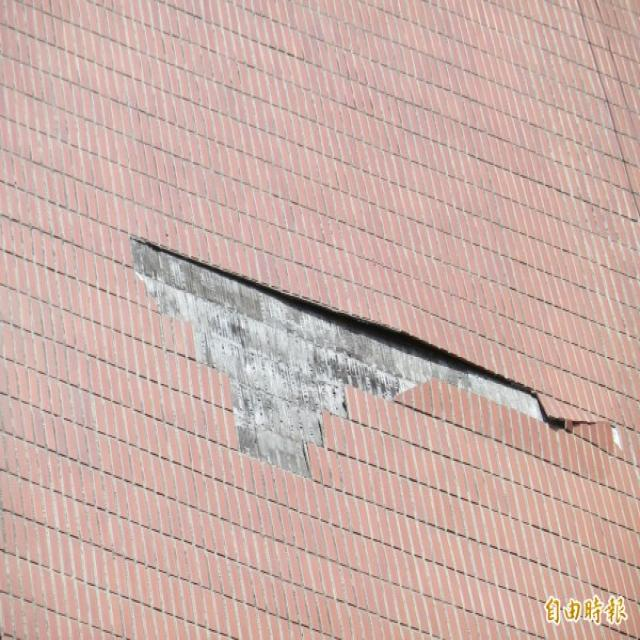Crack: (536, 370, 612, 464)
tile: (134, 228, 548, 481), (611, 424, 623, 452)
